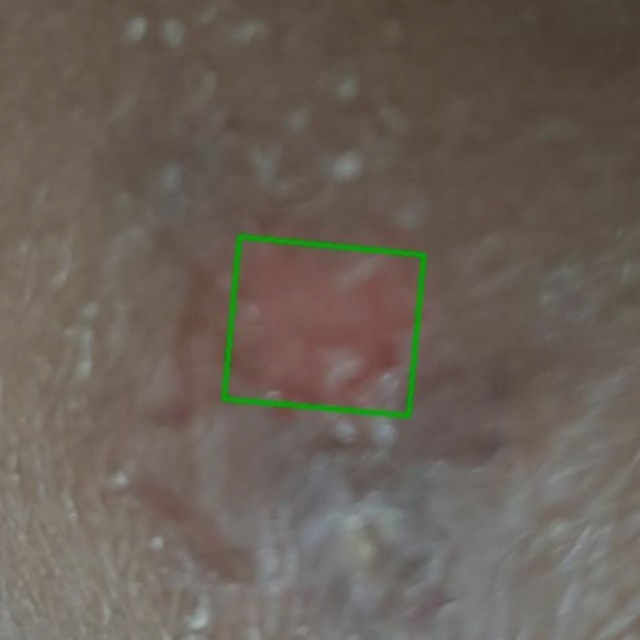Eczema: (224, 236, 424, 415)
